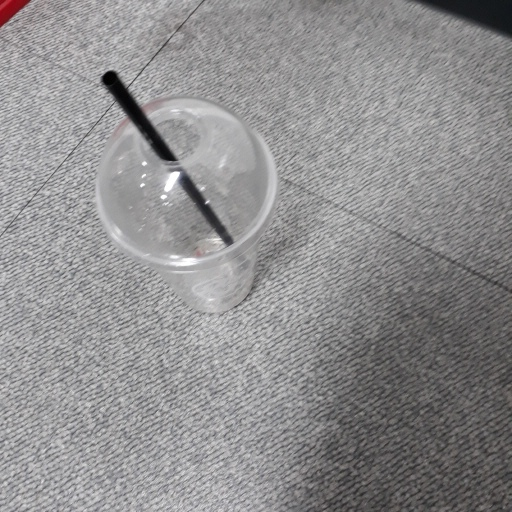Plastic_2: (91, 69, 280, 316)
